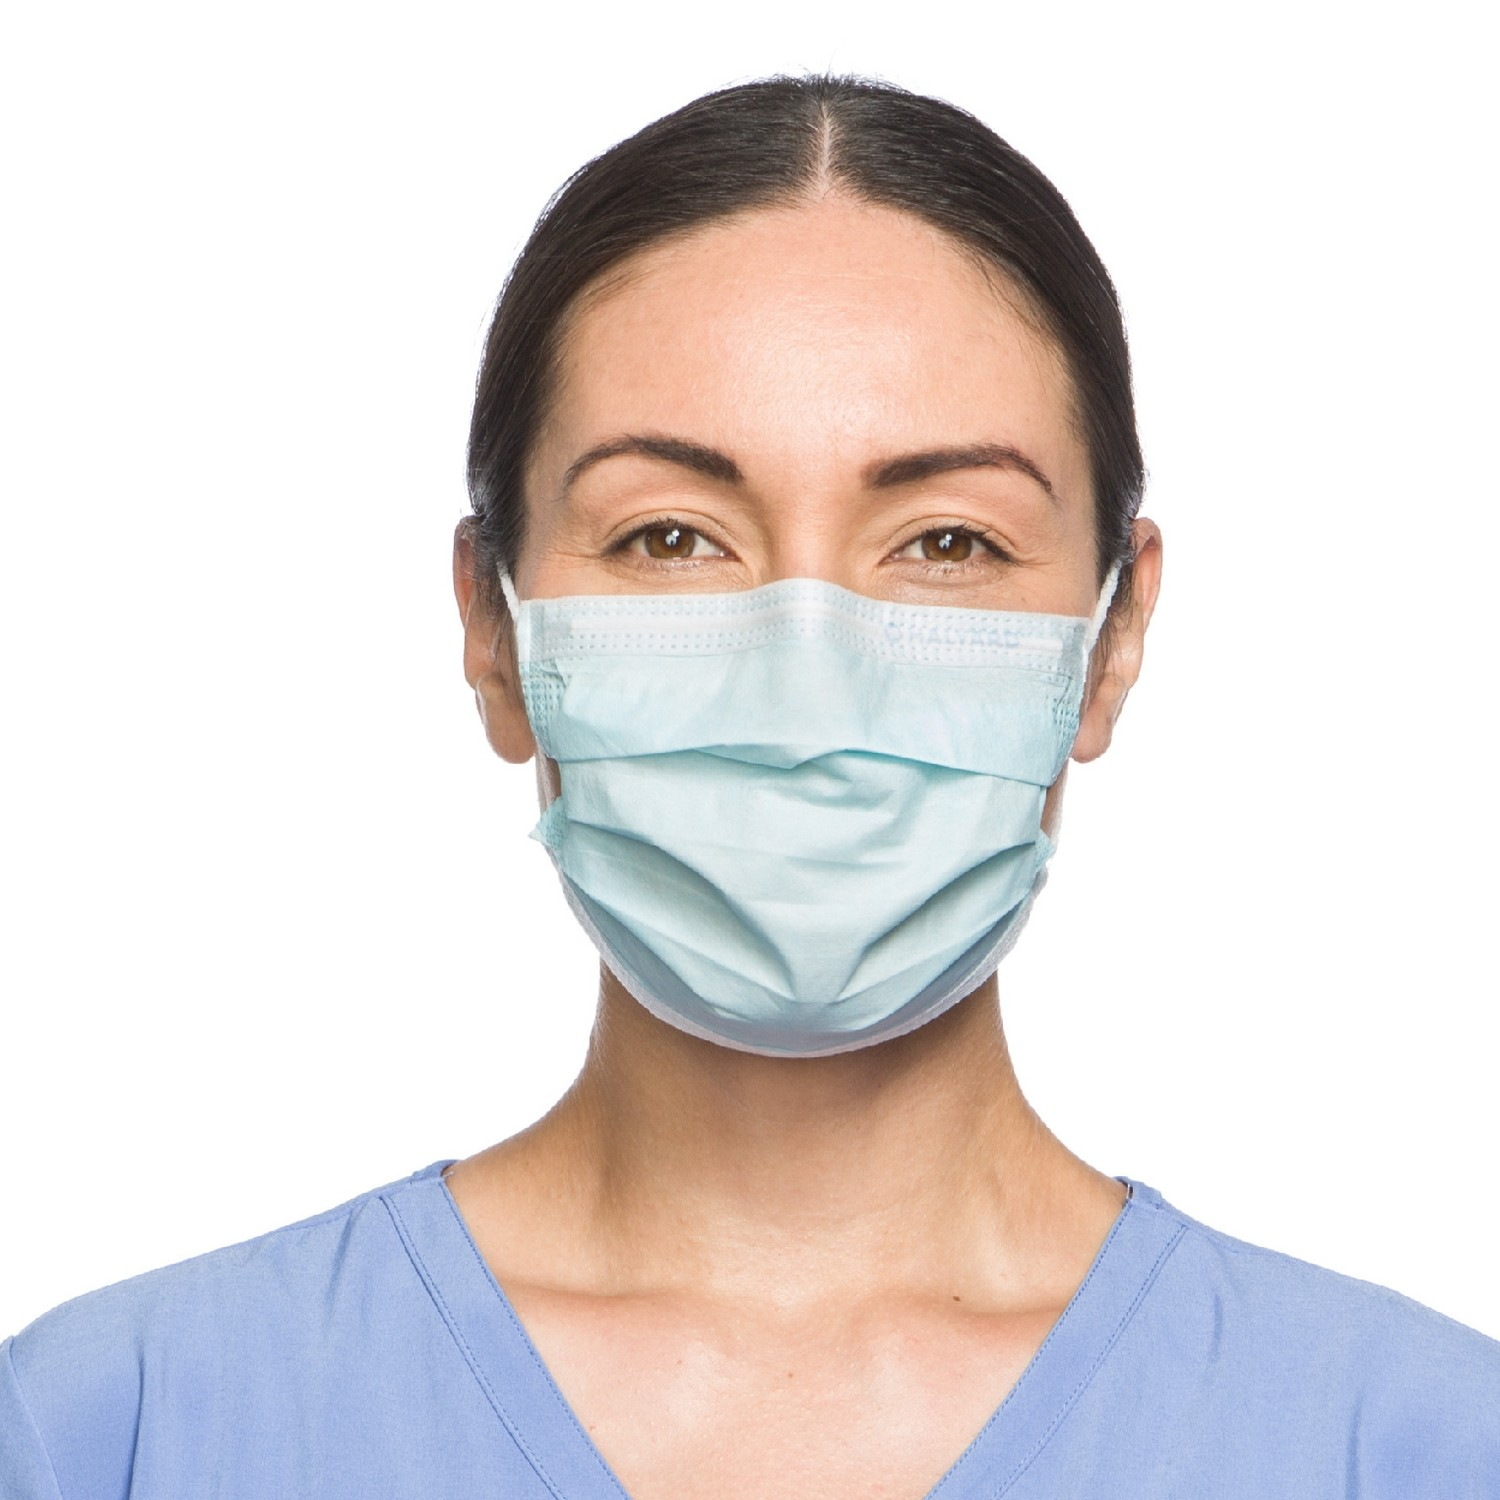mask: (540, 593, 1102, 1033)
